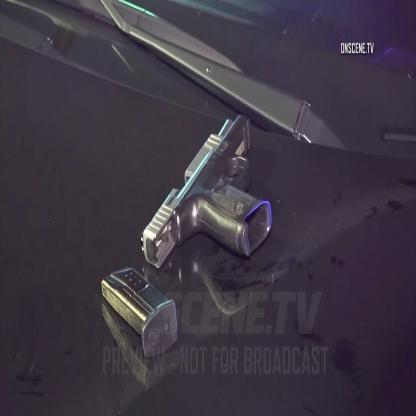Pistol: (139, 113, 272, 269)
